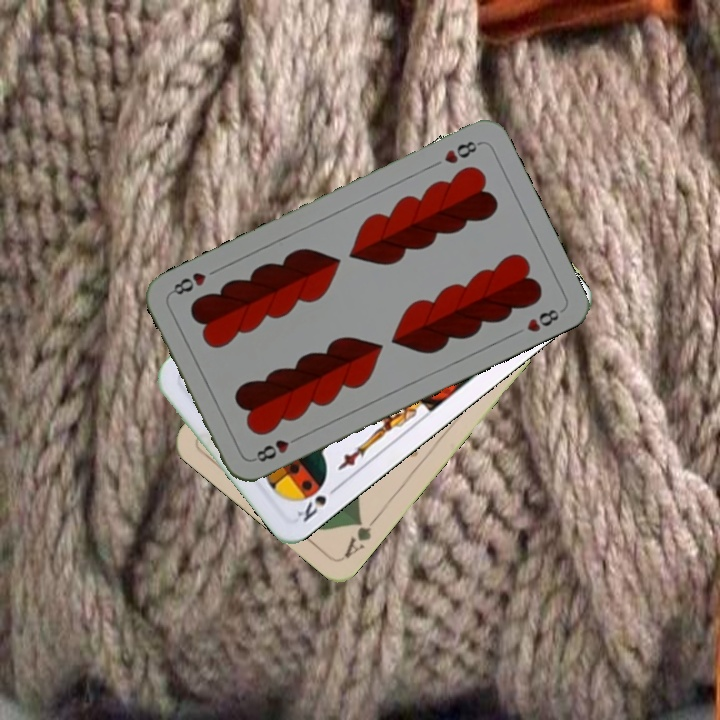GA: (339, 510, 382, 562)
H8: (249, 431, 304, 465), (440, 137, 483, 167)
SK: (292, 481, 343, 525)
